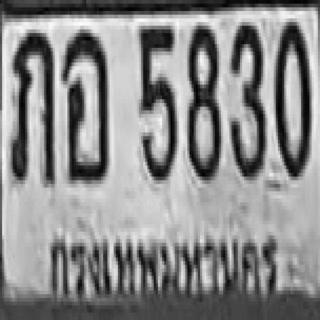A32: (8, 29, 55, 180)
A43: (61, 28, 107, 178)
N00: (274, 18, 309, 177)
N03: (228, 18, 264, 177)
N05: (137, 22, 175, 176)
N08: (185, 22, 219, 176)
P04: (43, 226, 286, 315)
